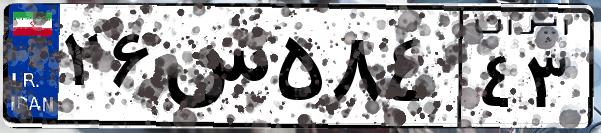2: (57, 26, 110, 100)
3: (525, 38, 570, 115)
4: (385, 28, 445, 110), (475, 38, 525, 113)
5: (270, 28, 330, 110)
6: (110, 28, 158, 98)
8: (330, 28, 385, 110)
س: (158, 20, 270, 120)
